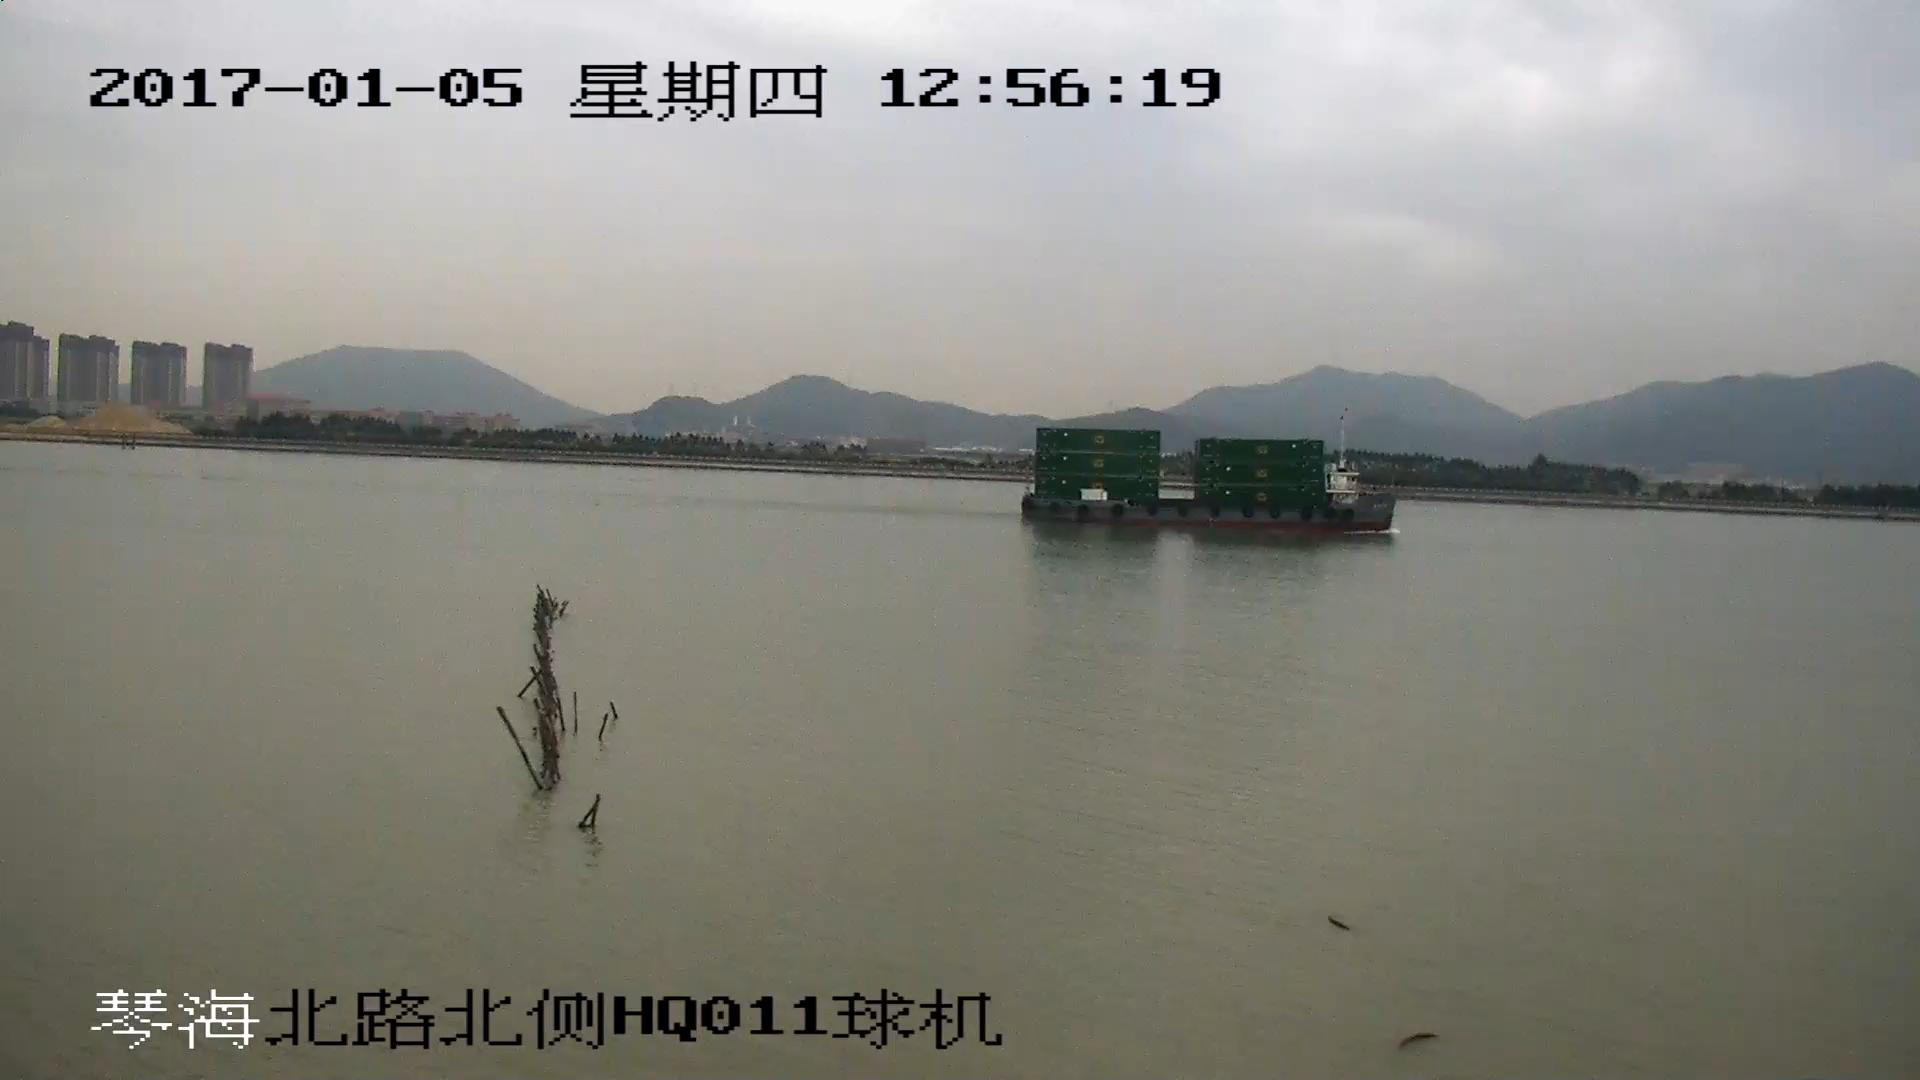container ship: (1024, 429, 1391, 534)
